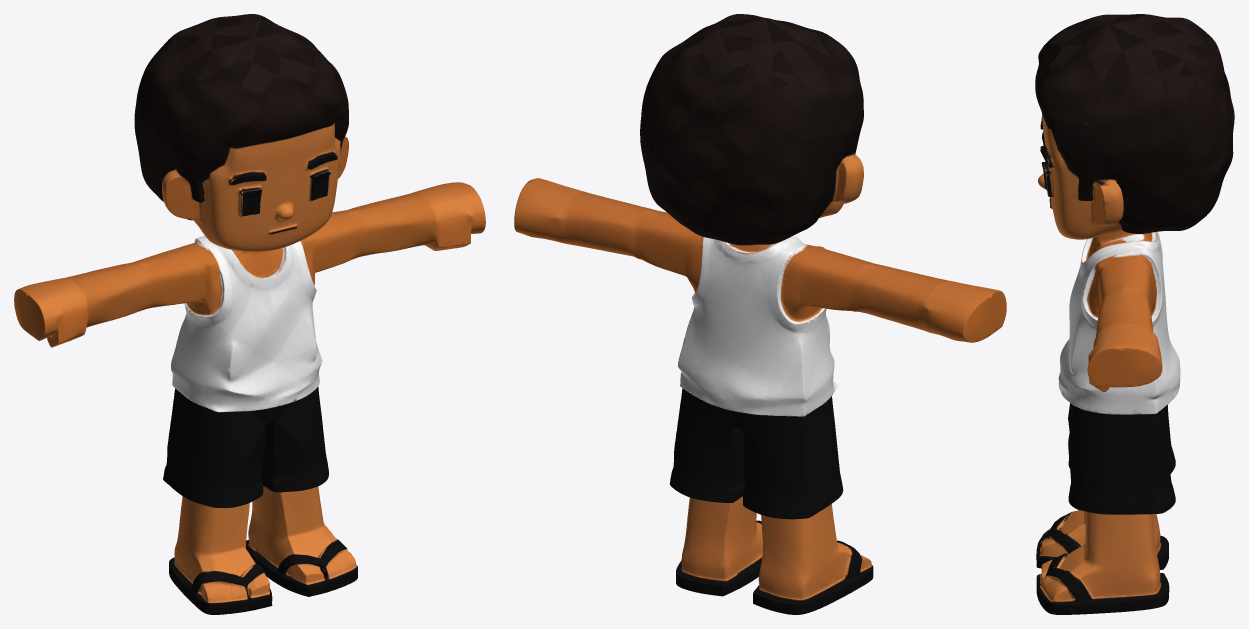
File: pablo.glb
The picture shows the model from 3 angles, left to right: view 1: azimuth 30°, elevation 25°; view 2: azimuth 150°, elevation 25°; view 3: azimuth 270°, elevation 25°; orthographic projection. The views are drawn at different scales.
Size of the model in its own units: 1.64 by 1.9 by 0.6214.
Materials: 1 (1 with a texture image).
